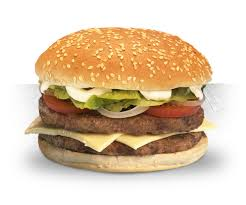hamburger: (25, 26, 223, 172)
